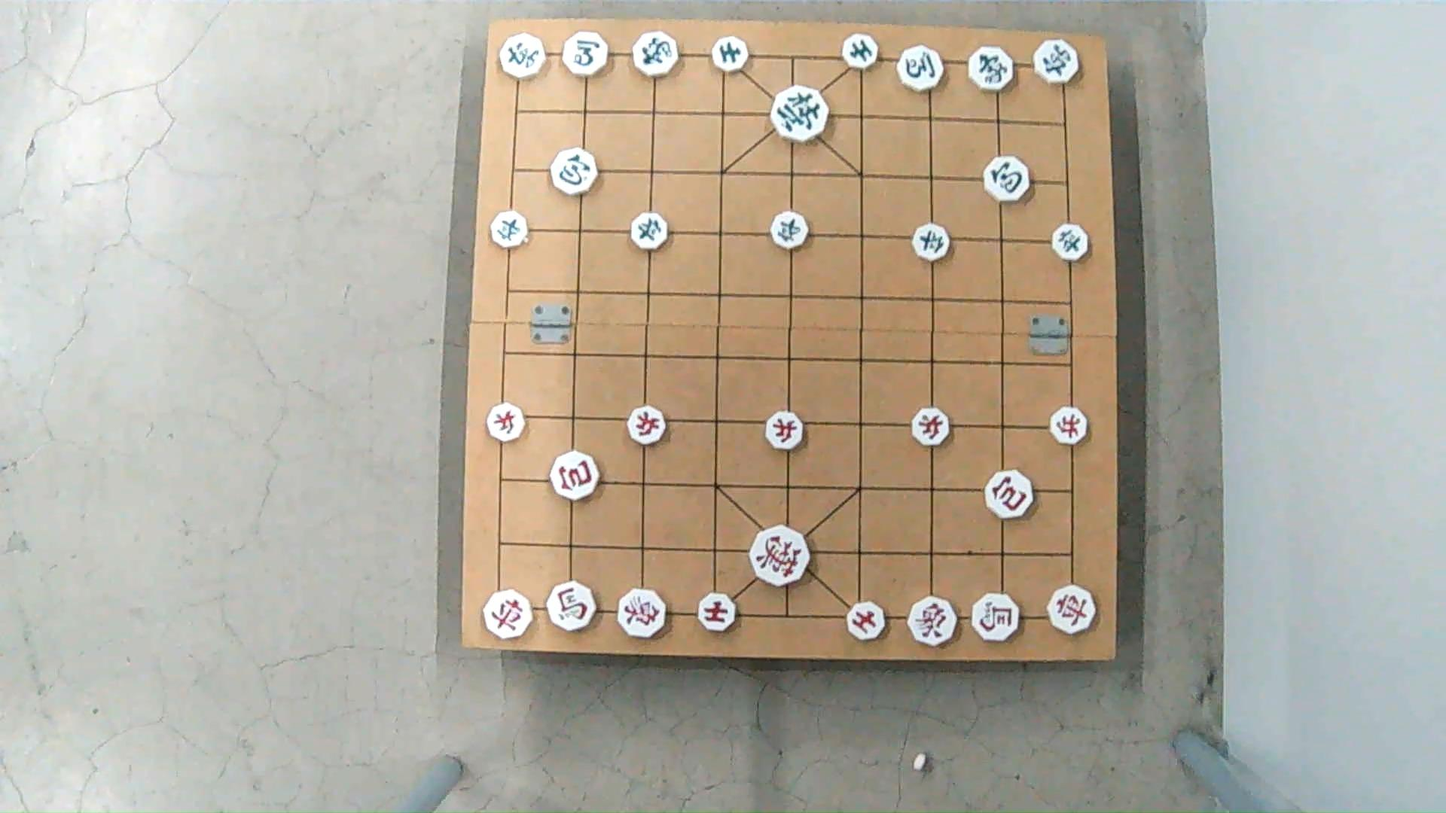cha_green: (498, 31, 547, 75), (1034, 38, 1078, 87)
cha_red: (484, 590, 534, 641), (1050, 585, 1097, 635)
jol_green: (772, 213, 811, 249), (915, 224, 954, 260), (1049, 225, 1088, 260), (628, 215, 667, 250), (489, 213, 528, 248)
jol_red: (765, 415, 807, 452), (627, 409, 667, 446), (484, 404, 524, 441), (914, 411, 954, 447), (1047, 410, 1086, 446)
ma_green: (563, 33, 612, 76), (899, 47, 947, 90)
ma_red: (545, 585, 595, 631), (969, 596, 1019, 642)
po_green: (551, 150, 597, 195), (986, 157, 1032, 201)
po_red: (549, 454, 598, 501), (988, 470, 1036, 517)
sa_green: (710, 37, 750, 71), (844, 35, 882, 69)
sa_red: (846, 601, 886, 639), (698, 595, 737, 632)
sang_green: (967, 45, 1014, 95), (632, 32, 680, 78)
sang_red: (908, 595, 959, 647), (618, 590, 667, 640)
wang_green: (771, 90, 831, 143)
wang_red: (752, 530, 814, 588)
